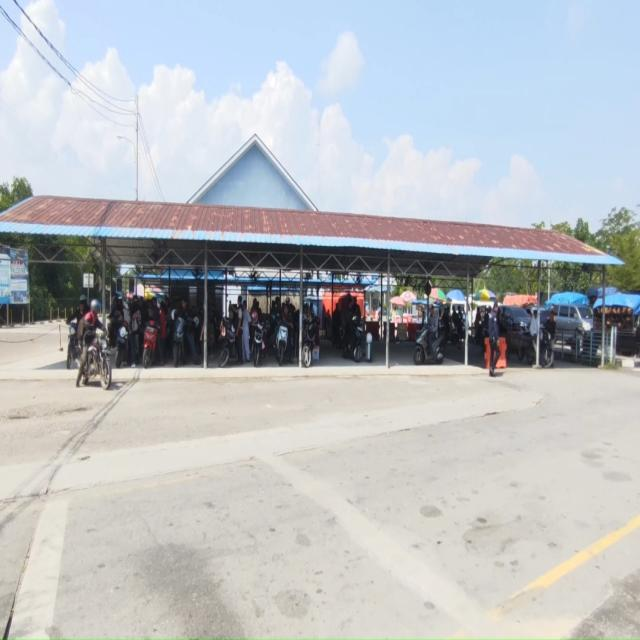Golongan II: (83, 330, 112, 390), (413, 325, 446, 365), (525, 327, 554, 368), (342, 316, 366, 363), (173, 318, 195, 368), (218, 318, 239, 368), (251, 320, 269, 367), (142, 320, 158, 370), (302, 318, 318, 368), (115, 321, 129, 368), (172, 318, 185, 368), (66, 321, 79, 369), (276, 324, 289, 366)
